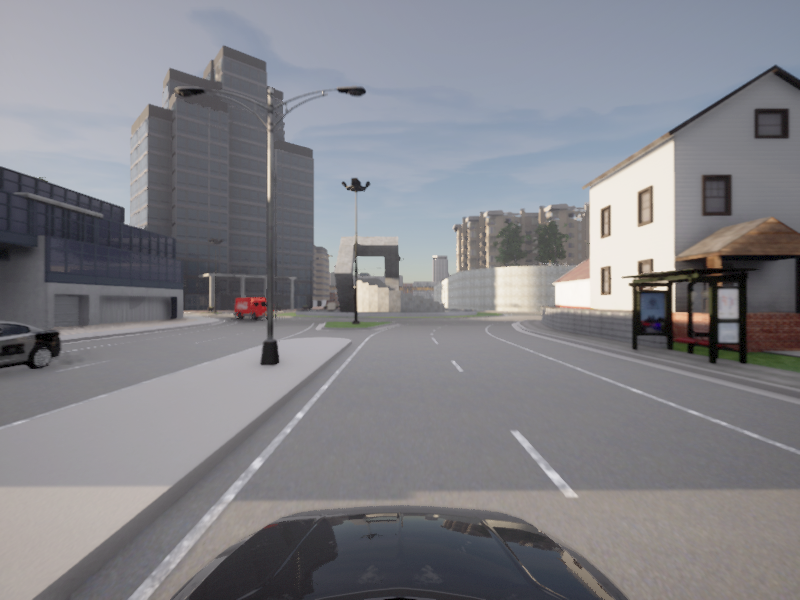vehicle: (0, 312, 73, 405), (232, 296, 279, 320)
